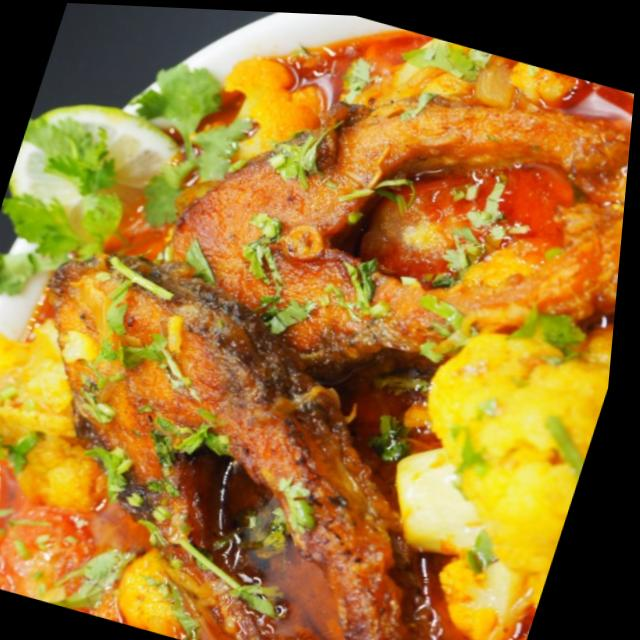FISH CURRY: (0, 30, 634, 640)
